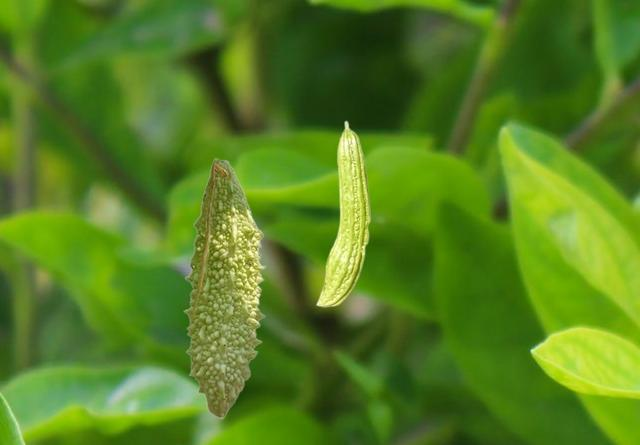ampalaya: (182, 155, 268, 420), (315, 120, 371, 307)
